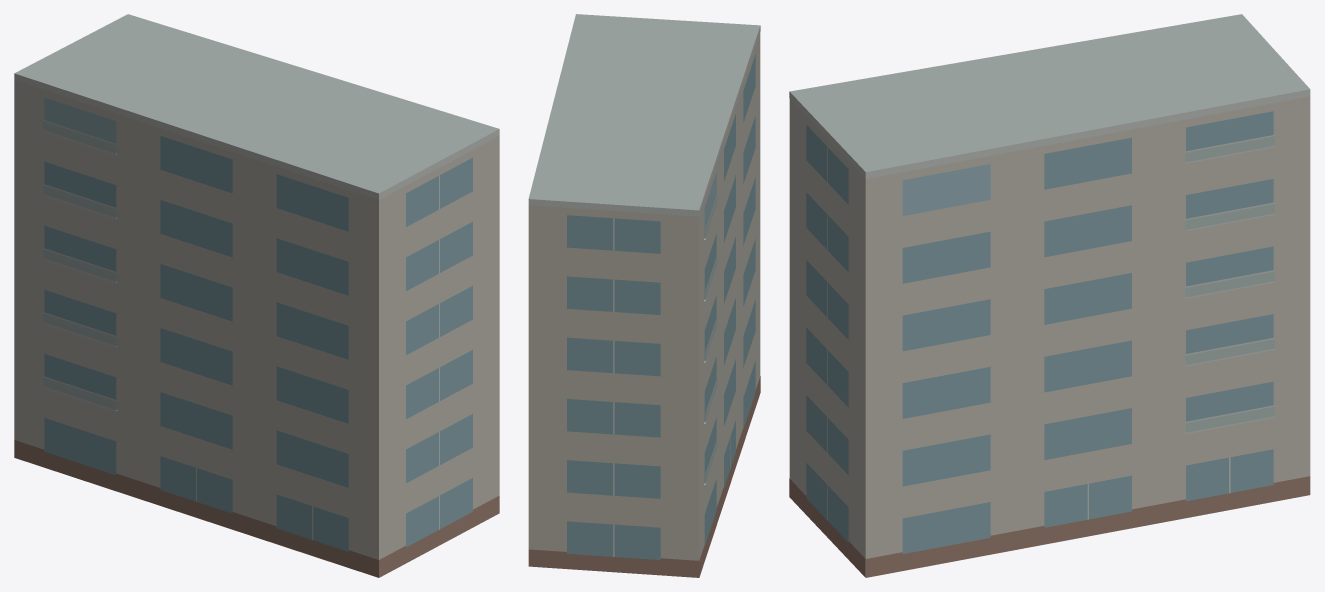
File: survey-upis-32889632.glb
3 renders of one model, left to right at view 1: azimuth 30°, elevation 25°; view 2: azimuth 150°, elevation 25°; view 3: azimuth 270°, elevation 25°, orthographic. The views are drawn at different scales.
Parts seen in each view (by area): view 1: survey-upis-32889632.tmp; view 2: survey-upis-32889632.tmp; view 3: survey-upis-32889632.tmp.
Boxes of the visible parts, box(x1,y1,x2,y2) form: survey-upis-32889632.tmp: box(14, 14, 499, 577); survey-upis-32889632.tmp: box(528, 14, 760, 577); survey-upis-32889632.tmp: box(789, 14, 1310, 577).
Size of the model in its own units: 12.05 by 14.4 by 16.77.
